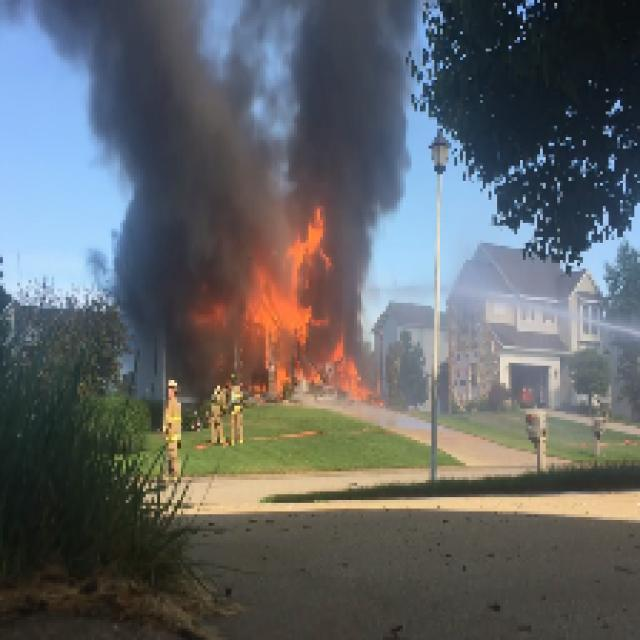Fire: (246, 274, 314, 332), (282, 214, 332, 266)
Smoke: (28, 2, 274, 238), (280, 3, 423, 203), (334, 208, 382, 322), (83, 243, 186, 294)
